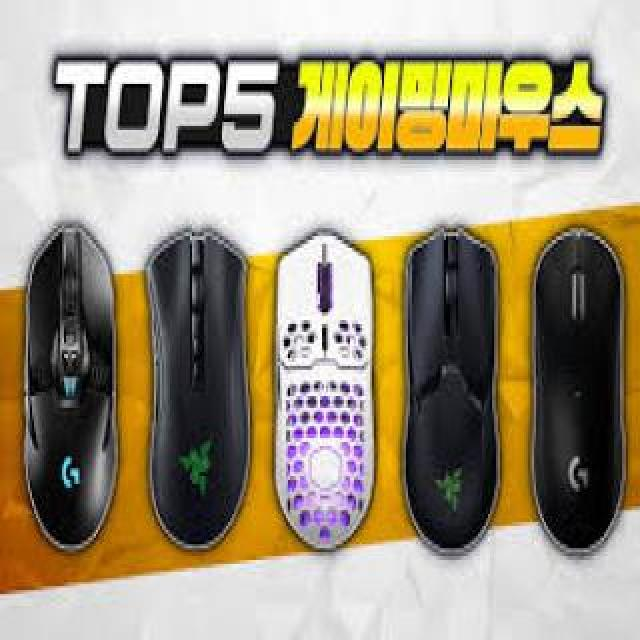mouse: (134, 225, 258, 556), (520, 216, 630, 579), (20, 210, 128, 550), (394, 213, 499, 562), (268, 212, 372, 562)
